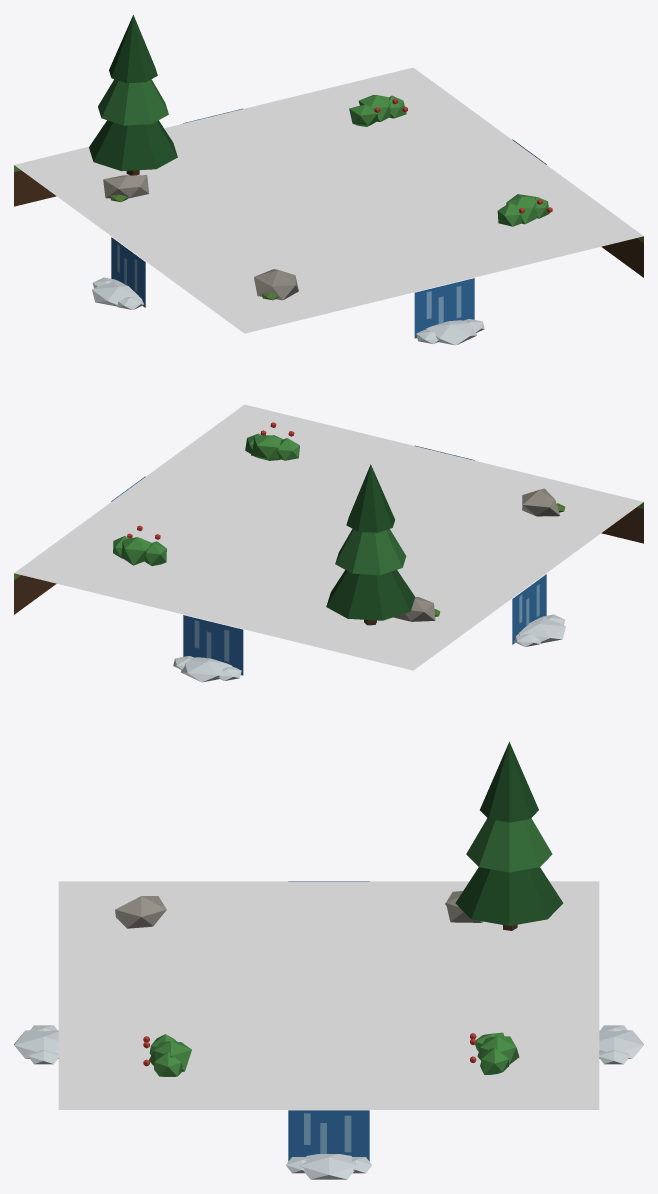
File: wLake.glb
3 renders of one model, top to bottom at view 1: azimuth 30°, elevation 25°; view 2: azimuth 150°, elevation 25°; view 3: azimuth 270°, elevation 25°, orthographic. The views are drawn at different scales.
Parts seen in each view (by area): view 1: wLake, fall_S, fall_W; view 2: wLake, fall_N, fall_W; view 3: wLake, fall_E, fall_N, fall_S.
Boxes of the visible parts, <box> form: wLake: <box>14,15,643,333</box>; fall_S: <box>414,278,484,345</box>; fall_W: <box>92,237,145,309</box>; wLake: <box>14,404,643,670</box>; fall_N: <box>173,615,243,682</box>; fall_W: <box>512,574,565,646</box>; wLake: <box>58,742,599,1109</box>; fall_E: <box>286,1110,371,1179</box>; fall_N: <box>599,1025,643,1064</box>; fall_S: <box>14,1025,58,1064</box>.
Bounding box in the file's own units: 2.34 × 0.9925 × 2.33.
